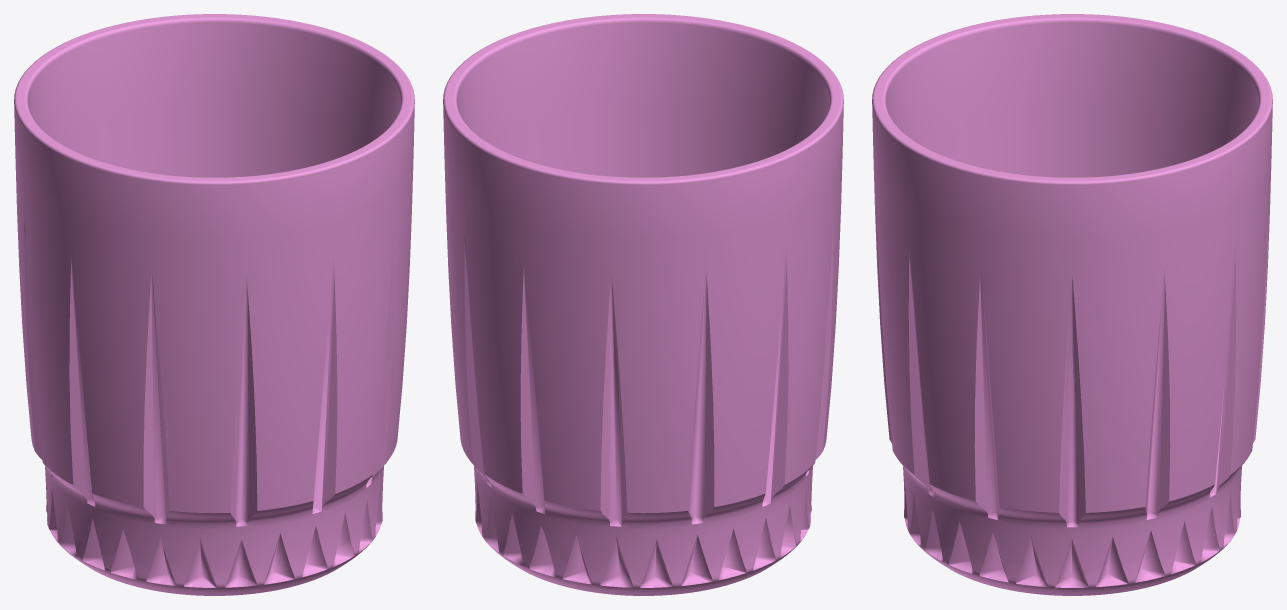
Rendered from Bicchiere.fbx.
3 views of the same model, side by side, from view 1: azimuth 30°, elevation 25°; view 2: azimuth 150°, elevation 25°; view 3: azimuth 270°, elevation 25° (orthographic).
Visible parts, largest first — view 1: Bicchiere; view 2: Bicchiere; view 3: Bicchiere.
Part boxes in pixels (left/top/right/bottom): Bicchiere: left=14, top=14, right=414, bottom=595; Bicchiere: left=443, top=14, right=843, bottom=595; Bicchiere: left=872, top=14, right=1272, bottom=595.
Size of the model in its own units: 287 by 343 by 287.
